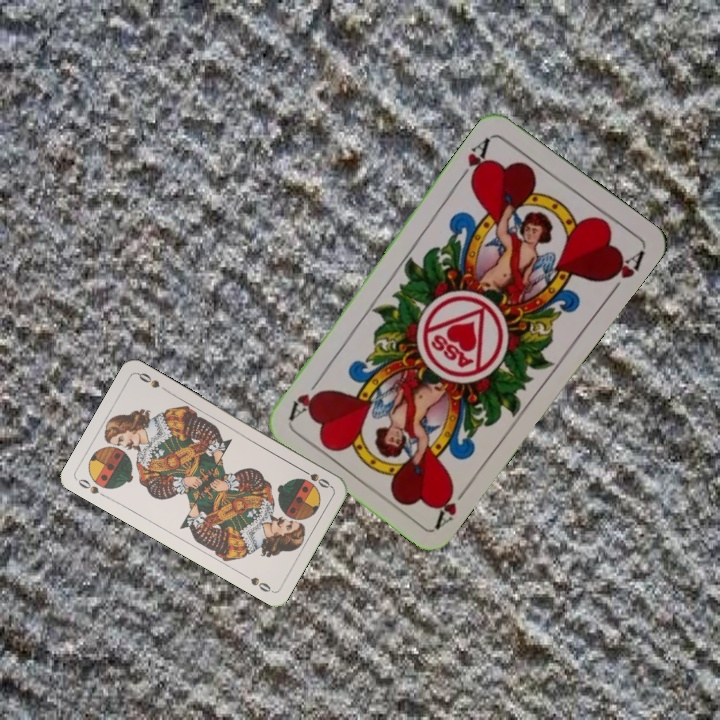HA: (454, 133, 495, 189), (431, 479, 474, 530)
SO: (297, 465, 334, 491), (74, 475, 111, 501)
